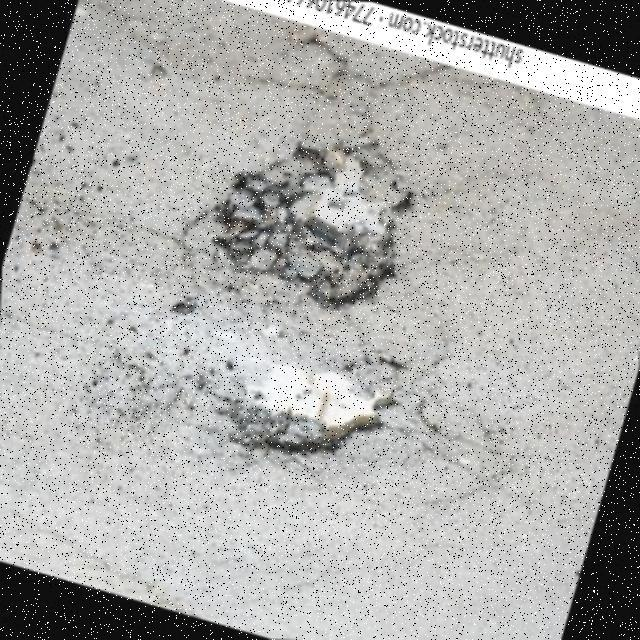Pothole: (209, 144, 410, 312), (198, 331, 404, 461)
